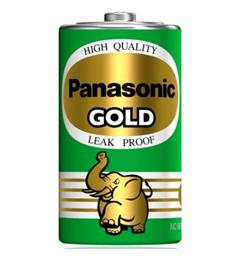Battery: (56, 9, 185, 247)
